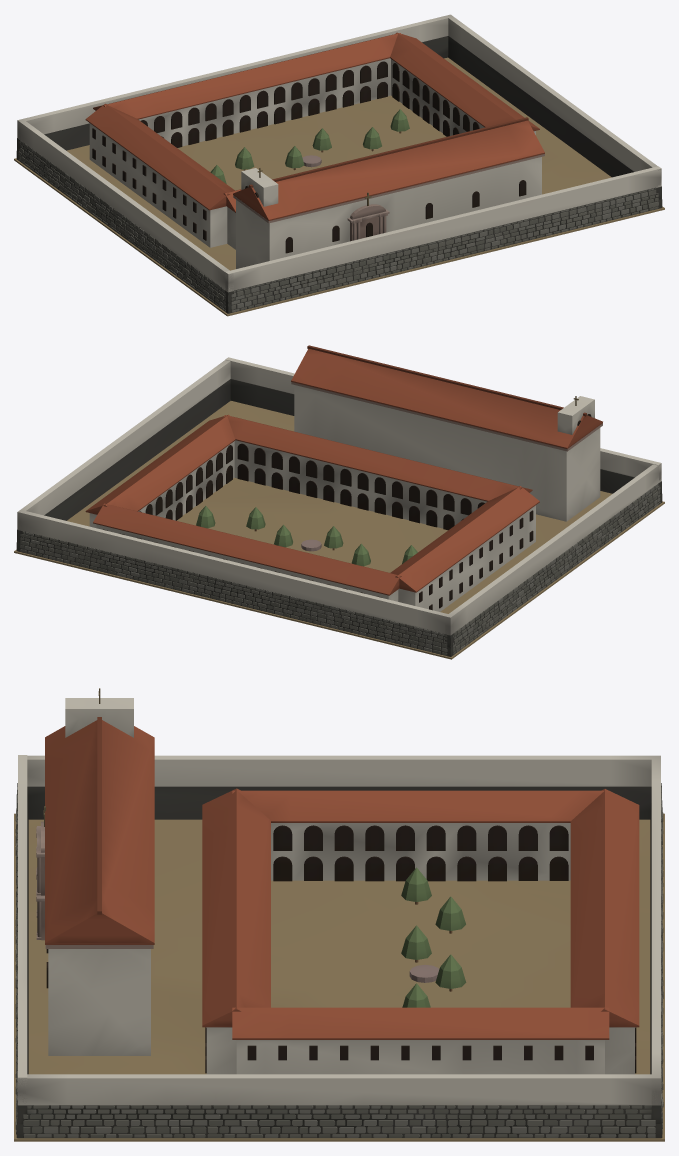
The model's file is santa-catalina.glb.
The picture shows the model from 3 angles, top to bottom: view 1: azimuth 30°, elevation 25°; view 2: azimuth 150°, elevation 25°; view 3: azimuth 270°, elevation 25°; orthographic projection. The views are drawn at different scales.
Visible parts, largest first — view 1: p1_walls, p2_roofs, p0_ground; view 2: p1_walls, p2_roofs, p0_ground; view 3: p1_walls, p2_roofs, p0_ground.
Part boxes in pixels (box(x1,y1,x2,y2)): p1_walls: box(16, 14, 662, 313); p2_roofs: box(85, 32, 544, 220); p0_ground: box(14, 57, 664, 316); p1_walls: box(16, 357, 662, 656); p2_roofs: box(85, 345, 602, 595); p0_ground: box(14, 401, 664, 659); p1_walls: box(15, 688, 663, 1138); p2_roofs: box(45, 717, 639, 1039); p0_ground: box(14, 813, 664, 1141).
Size of the model in its own units: 90 by 22.26 by 76.
